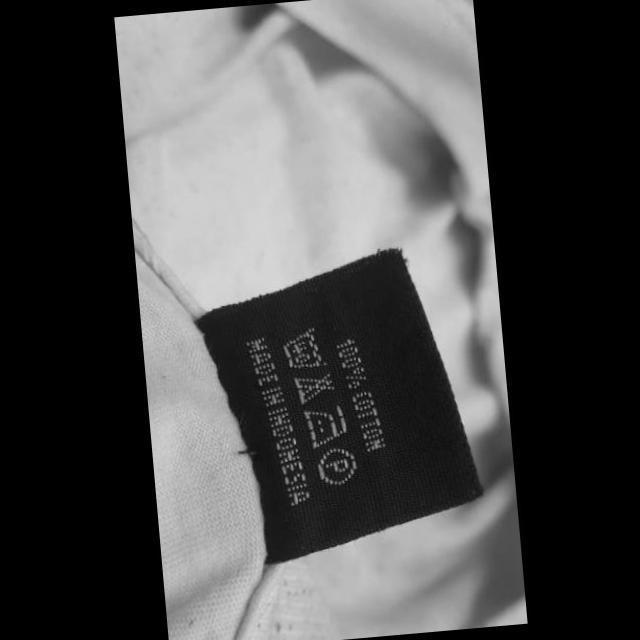40C: (278, 323, 330, 374)
DN_bleach: (290, 368, 338, 408)
iron_medium: (300, 401, 352, 451)
normal_dry_clean_solvents: (314, 444, 361, 488)
